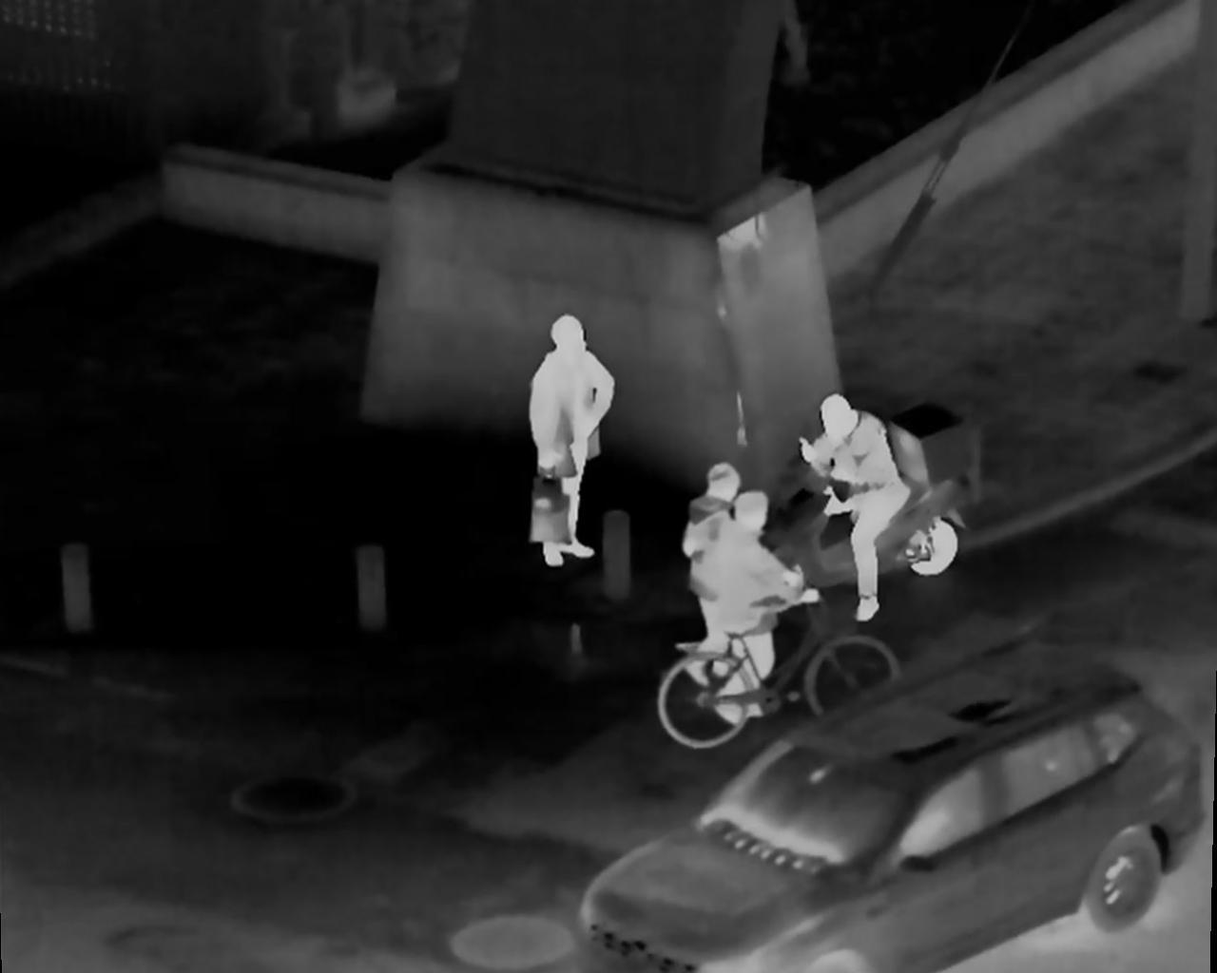person: (811, 393, 914, 614), (531, 315, 611, 576), (678, 460, 743, 686), (709, 494, 774, 701)
